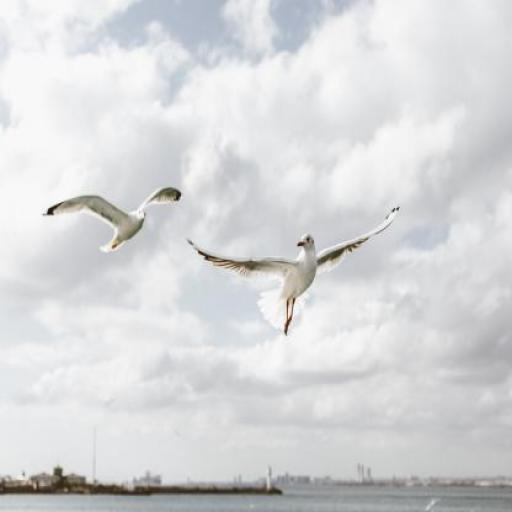bird: (190, 204, 401, 329), (47, 186, 183, 250)
